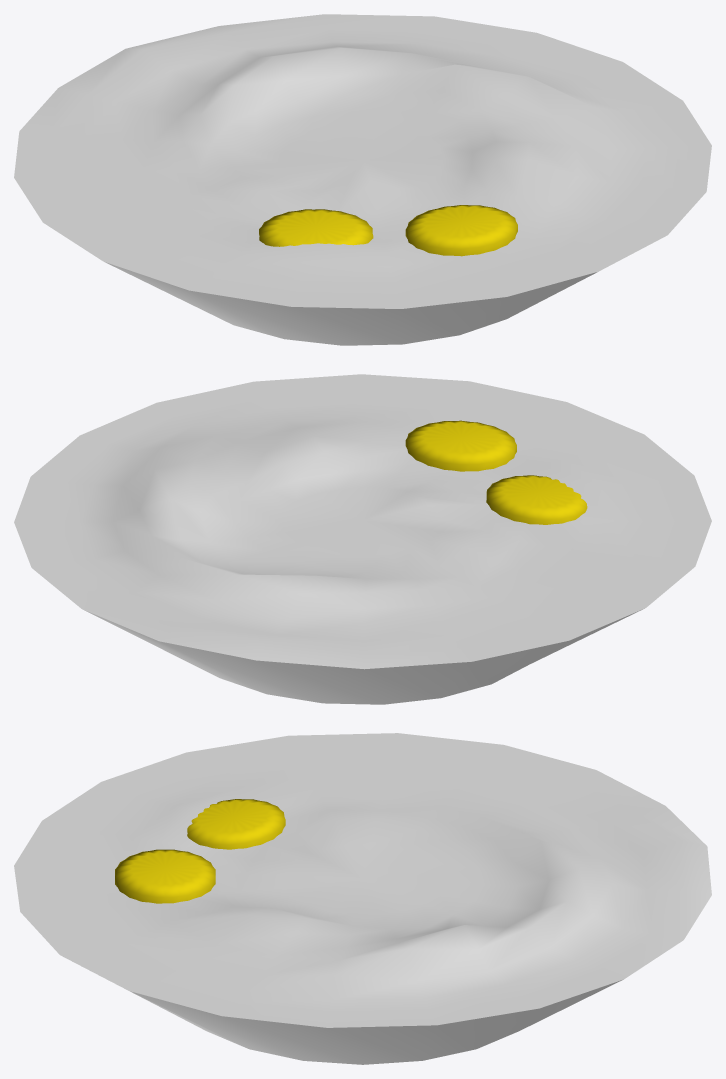
The model's file is CreamAndEggs.fbx.
3 renders of one model, top to bottom at view 1: azimuth 30°, elevation 25°; view 2: azimuth 150°, elevation 25°; view 3: azimuth 270°, elevation 25°, orthographic.
Visible parts, largest first — view 1: pCylinder1, pCylinder2, pCylinder3; view 2: pCylinder1, pCylinder2, pCylinder3; view 3: pCylinder1, pCylinder2, pCylinder3.
Part boxes in pixels (x1=…): pCylinder1: x1=14, y1=14, x2=711, y2=345; pCylinder2: x1=405, y1=205, x2=517, y2=256; pCylinder3: x1=259, y1=209, x2=373, y2=246; pCylinder1: x1=14, y1=374, x2=711, y2=704; pCylinder2: x1=405, y1=420, x2=516, y2=471; pCylinder3: x1=486, y1=475, x2=587, y2=524; pCylinder1: x1=14, y1=733, x2=711, y2=1064; pCylinder2: x1=115, y1=849, x2=215, y2=903; pCylinder3: x1=187, y1=799, x2=285, y2=849.
Bounding box in the file's own units: 13.09 × 2.64 × 13.1.
